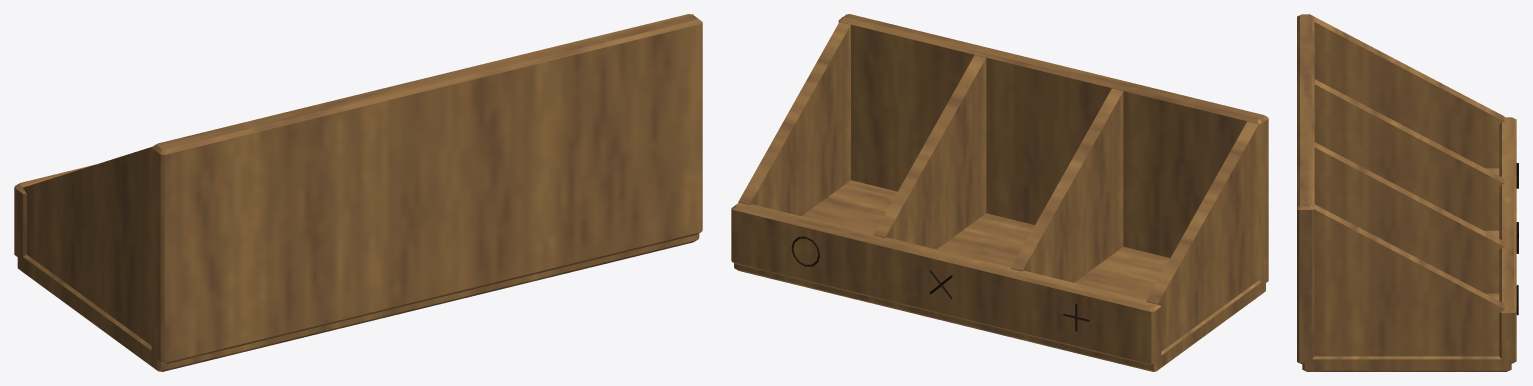
Rendered from CorrespondenceRack.obj.
3 views of the same model, side by side, from view 1: azimuth 30°, elevation 25°; view 2: azimuth 150°, elevation 25°; view 3: azimuth 270°, elevation 25° (orthographic). The views are drawn at different scales.
Parts seen in each view (by area): view 1: Rack_ThreeCompartments; view 2: Rack_ThreeCompartments; view 3: Rack_ThreeCompartments.
Part boxes in pixels (bbox=[...]): Rack_ThreeCompartments: bbox=[14, 14, 702, 371]; Rack_ThreeCompartments: bbox=[731, 14, 1268, 371]; Rack_ThreeCompartments: bbox=[1297, 14, 1518, 371].
Size of the model in its own units: 0.66 by 0.262 by 0.3181.
2 materials, 1 textured.
